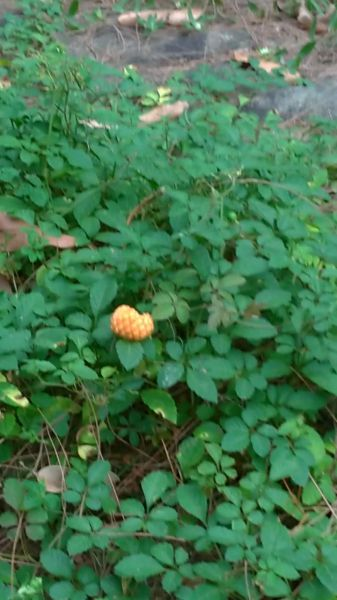eggs: (109, 304, 160, 344)
